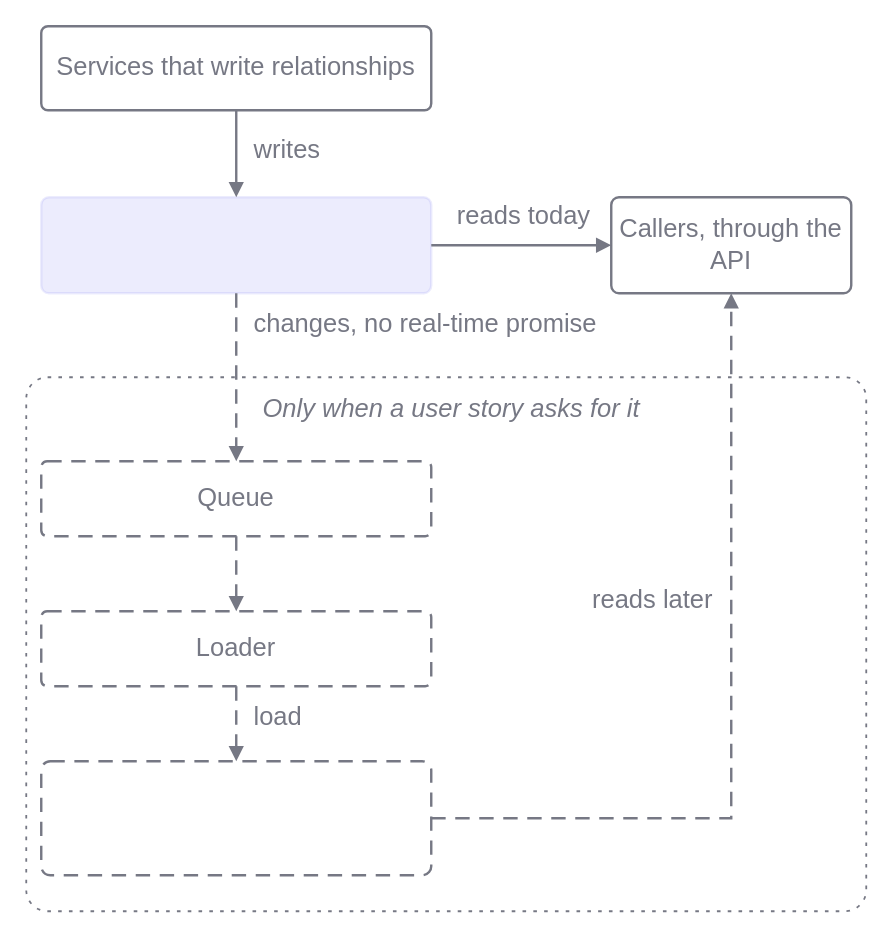
This 894x939 diagram has some shape labels left out. The centre of each missing label's shape, as x and y in pixels:
"SQL database: source of truth" goes at point (235, 244).
"Three in-memory graph instances, read only" goes at point (235, 817).
